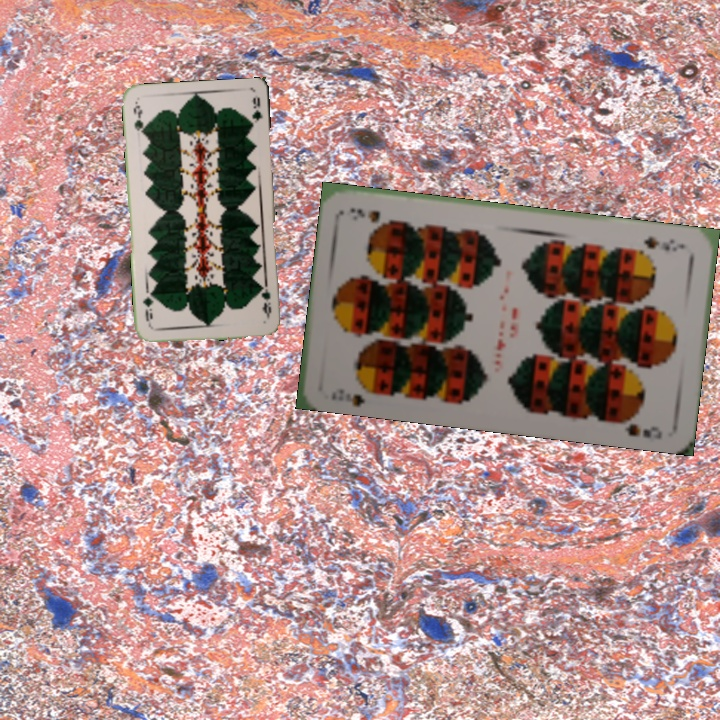G9: (256, 281, 274, 320), (129, 99, 146, 137)
S9: (341, 380, 382, 408), (639, 233, 688, 254)
